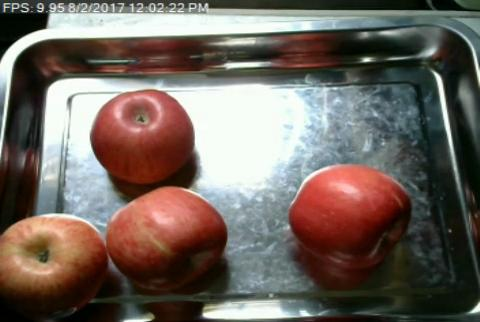apple: (107, 186, 228, 292), (291, 164, 410, 268), (0, 214, 103, 318), (92, 91, 194, 183)
